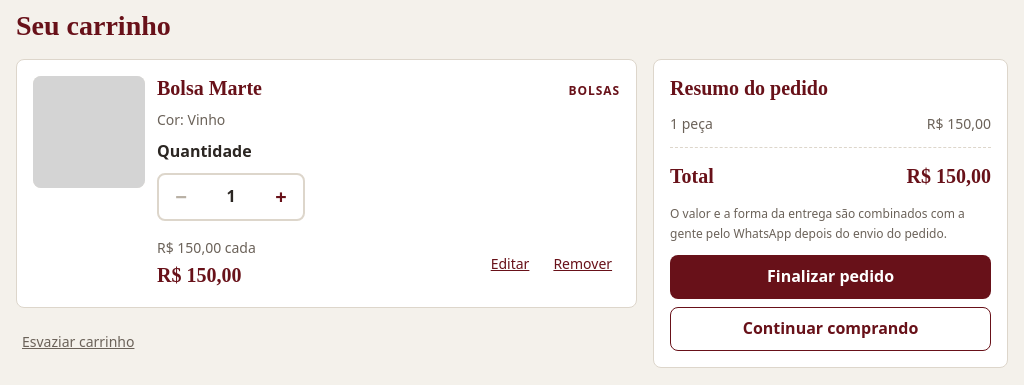
it: CarrinhoPage › alterar a quantidade atualiza subtotal e total imediatamente
Click the button named "Aumentar quantidade": (281, 197) [259, 175, 303, 219]
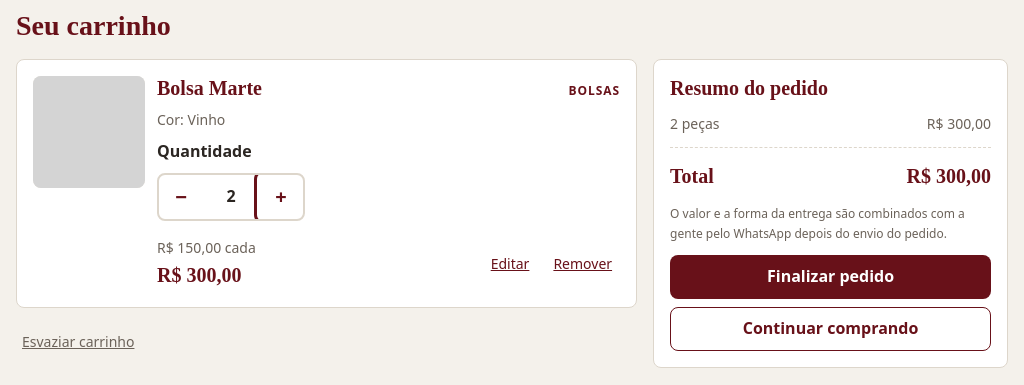
Expected: the text "R$ 300,00" in the row of "2 peças" is shown, [927, 114, 991, 133]
Expected: the text "2 peças" is shown, [670, 113, 720, 135]
